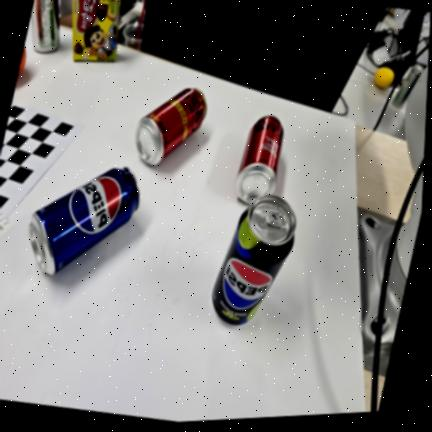can_coke_decaf: (136, 88, 207, 165)
can_coke_zero: (235, 116, 284, 203)
can_pepsi: (28, 168, 139, 275)
can_pepsi_zero: (213, 195, 297, 325)
